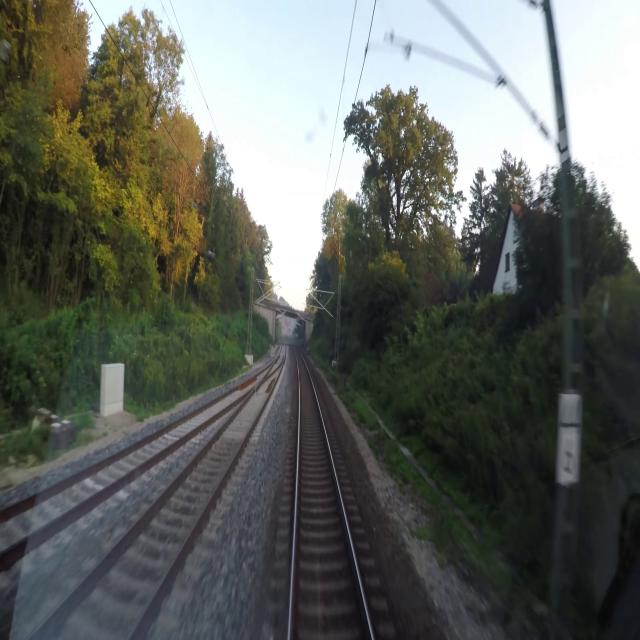rail-track: (30, 371, 277, 639), (0, 373, 263, 549), (291, 351, 370, 639), (274, 344, 284, 366)
